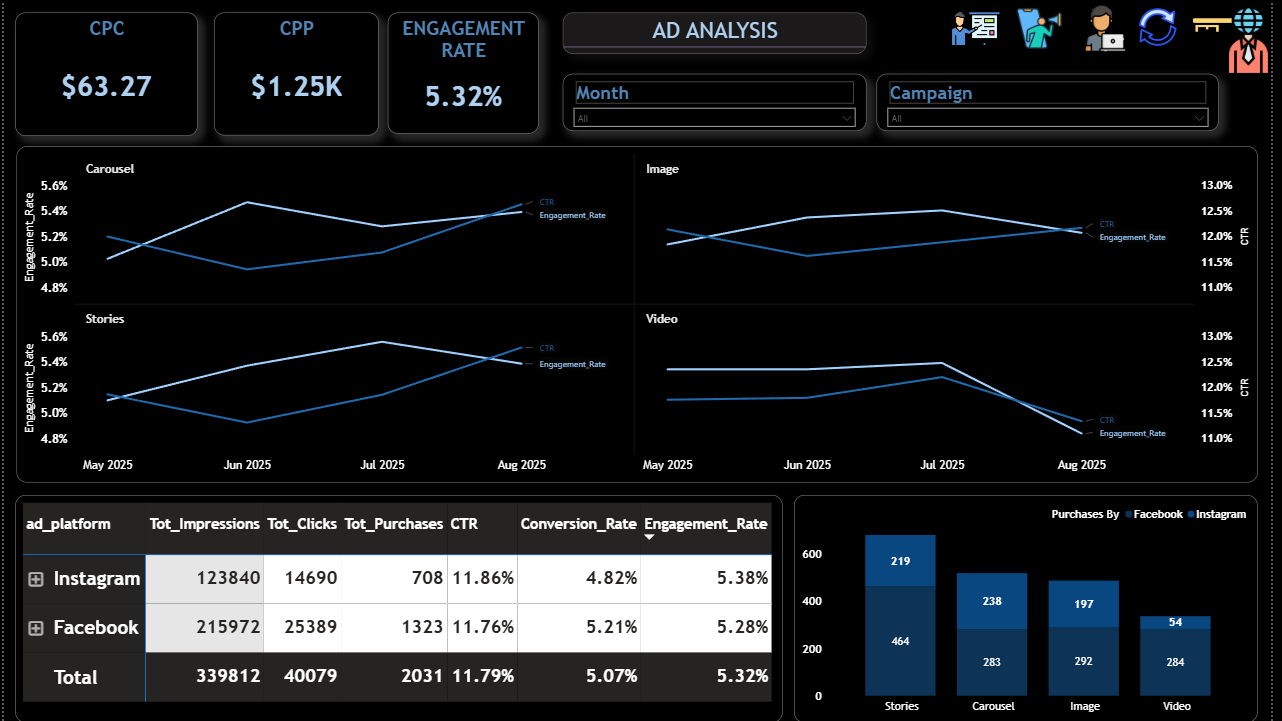

This screenshot's page, from the dashboard's own definition file:
{"tool":"powerbi","page":{"name":"Ad Analysis1","canvas":[1840,1050],"ordinal":3},"visuals":[{"type":"slicer","fields":{"Values":["campaigns.name"]},"box":[1266.2,107,497.1,83.4],"z":1000},{"type":"cardVisual","title":"ENGAGEMENT RATE","fields":{"Data":["Measure Table.Engagement_Rate"]},"box":[556.9,18.1,219.5,176],"z":2000},{"type":"cardVisual","title":"CPC","fields":{"Data":["Measure Table.Ad_CPC"]},"box":[16.3,18.1,264.9,179.6],"z":5000},{"type":"cardVisual","title":"CPP","fields":{"Data":["Measure Table.Ad_CPP"]},"box":[304.8,18.1,239.2,178.5],"z":6000},{"type":"lineChart","fields":{"Y2":["Measure Table.CTR"],"Category":["ad_events.timestamp.Variation.Date Hierarchy.Year","ad_events.timestamp.Variation.Date Hierarchy.Quarter","ad_events.timestamp.Variation.Date Hierarchy.Month"],"Y":["Measure Table.Engagement_Rate"],"Rows":["ads.ad_type"]},"box":[18.1,212.3,1801.4,488],"z":7000},{"type":"pivotTable","fields":{"Values":["Measure Table.Tot_Impressions","Measure Table.Tot_Clicks","Measure Table.Tot_Purchases","Measure Table.CTR","Measure Table.Conversion_Rate","Measure Table.Engagement_Rate"],"Rows":["ads.ad_platform","ads.ad_type"]},"box":[16.3,718.4,1113.9,330.2],"z":8000},{"type":"textbox","title":"AD ANALYSIS","box":[810.9,18.1,440.8,59.9],"z":9000},{"type":"image","box":[1647.2,0,54.4,78],"z":10000},{"type":"image","box":[1563.8,3.6,69.5,74.9],"z":11000},{"type":"image","box":[1464,3.6,76.7,74.9],"z":13000},{"type":"image","box":[1369.7,10.9,81.6,59.9],"z":14000},{"type":"columnChart","title":"Purchases By Ad Type","fields":{"Category":["ads.ad_type"],"Y":["Measure Table.Tot_Purchases"],"Series":["ads.ad_platform"]},"box":[1146.5,718.4,673,330.2],"z":15000},{"type":"slicer","fields":{"Values":["ad_events.Event Month"]},"box":[810.9,107,440.8,83.4],"z":16000},{"type":"image","box":[1719.8,7.3,119.7,103.4],"z":17000}]}

Visuals, with their boxes in screenshot pixels (x1, y1, x2, y2), scaled from the page's 1840x1050 canvas onto the 1282x721 screenshot:
slicer - campaigns.name: left=882, top=73, right=1229, bottom=131
"ENGAGEMENT RATE" cardVisual: left=388, top=12, right=541, bottom=133
"CPC" cardVisual: left=11, top=12, right=196, bottom=136
"CPP" cardVisual: left=212, top=12, right=379, bottom=135
lineChart - Measure Table.CTR x ad_events.timestamp.Variation.Date Hierarchy.Year: left=13, top=146, right=1268, bottom=481
pivotTable - Measure Table.Tot_Impressions x Measure Table.Tot_Clicks: left=11, top=493, right=787, bottom=720
"AD ANALYSIS" textbox: left=565, top=12, right=872, bottom=54
image: left=1148, top=0, right=1186, bottom=54
image: left=1090, top=2, right=1138, bottom=54
image: left=1020, top=2, right=1073, bottom=54
image: left=954, top=7, right=1011, bottom=49
"Purchases By Ad Type" columnChart: left=799, top=493, right=1268, bottom=720
slicer - ad_events.Event Month: left=565, top=73, right=872, bottom=131
image: left=1198, top=5, right=1281, bottom=76
